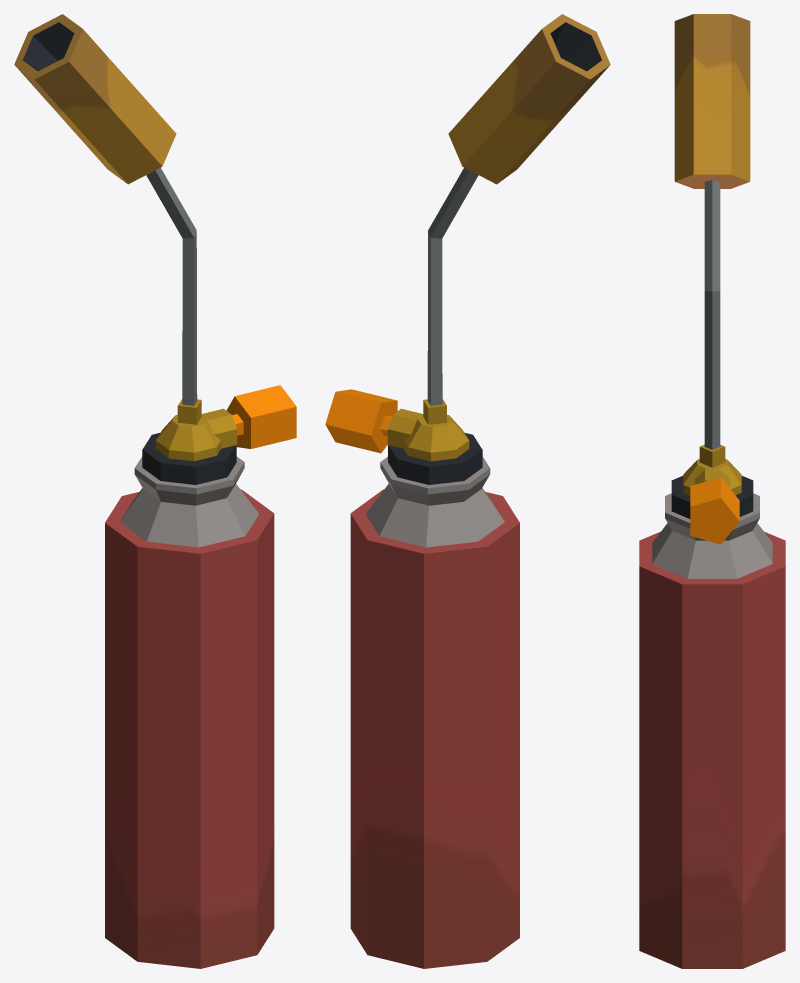
Rendered from SM_Gas_Burner.fbx.
3 renders of one model, left to right at view 1: azimuth 30°, elevation 25°; view 2: azimuth 150°, elevation 25°; view 3: azimuth 270°, elevation 25°, orthographic. The views are drawn at different scales.
Visible parts, largest first — view 1: SM_Gas_Burner; view 2: SM_Gas_Burner; view 3: SM_Gas_Burner.
Boxes of the visible parts, <box> form: SM_Gas_Burner: <box>14,14,296,968</box>; SM_Gas_Burner: <box>325,14,610,968</box>; SM_Gas_Burner: <box>639,14,785,968</box>.
Size of the model in its own units: 18.07 by 62.29 by 9.48.
